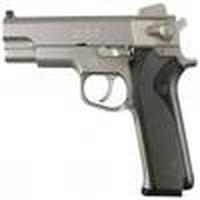gun: (1, 4, 197, 197)
